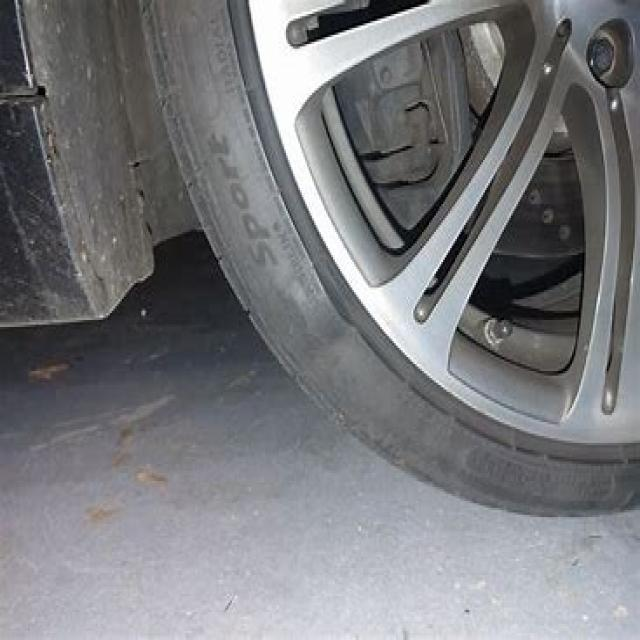Bulge: (265, 262, 360, 365)
